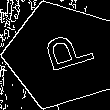P_W: (29, 30, 92, 80)
